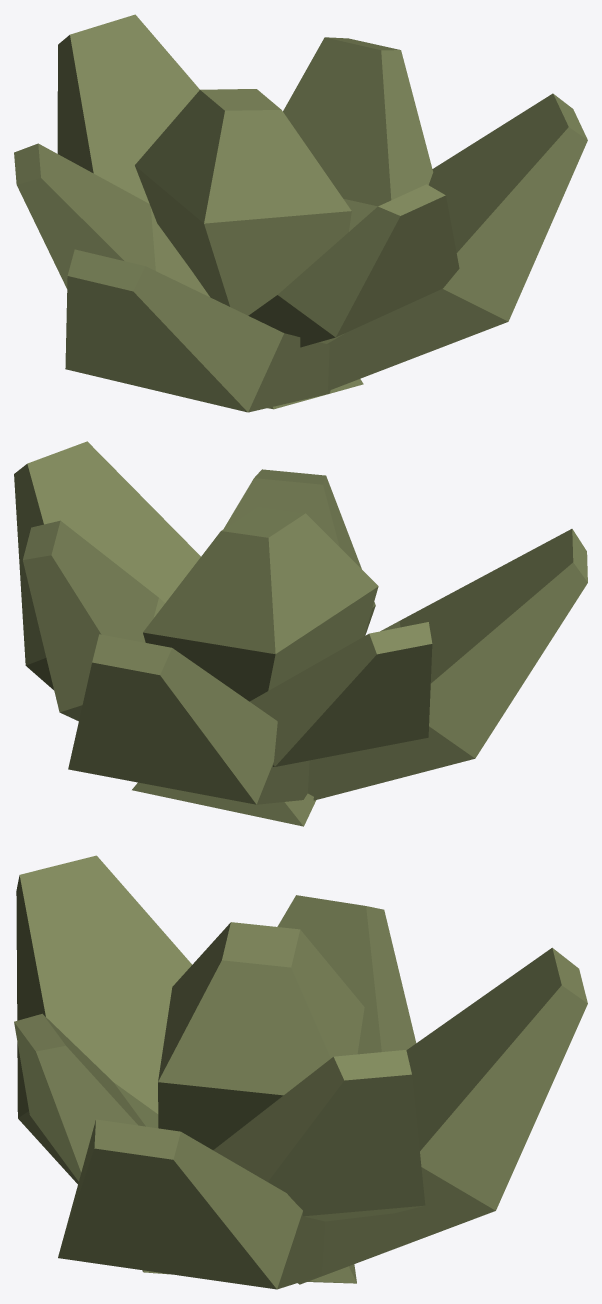
Rendered from SM_Env_Plant_02.glb.
3 views of the same model, one above another, from view 1: azimuth 30°, elevation 25°; view 2: azimuth 150°, elevation 25°; view 3: azimuth 270°, elevation 25° (orthographic). The views are drawn at different scales.
Visible parts, largest first — view 1: SM_Env_Plant_02; view 2: SM_Env_Plant_02; view 3: SM_Env_Plant_02.
Part boxes in pixels (bbox=[...]): SM_Env_Plant_02: bbox=[14, 14, 587, 412]; SM_Env_Plant_02: bbox=[14, 441, 587, 826]; SM_Env_Plant_02: bbox=[14, 855, 587, 1289].
Bounding box in the file's own units: 0.5682 × 0.3067 × 0.4694.
1 material, 1 textured.
